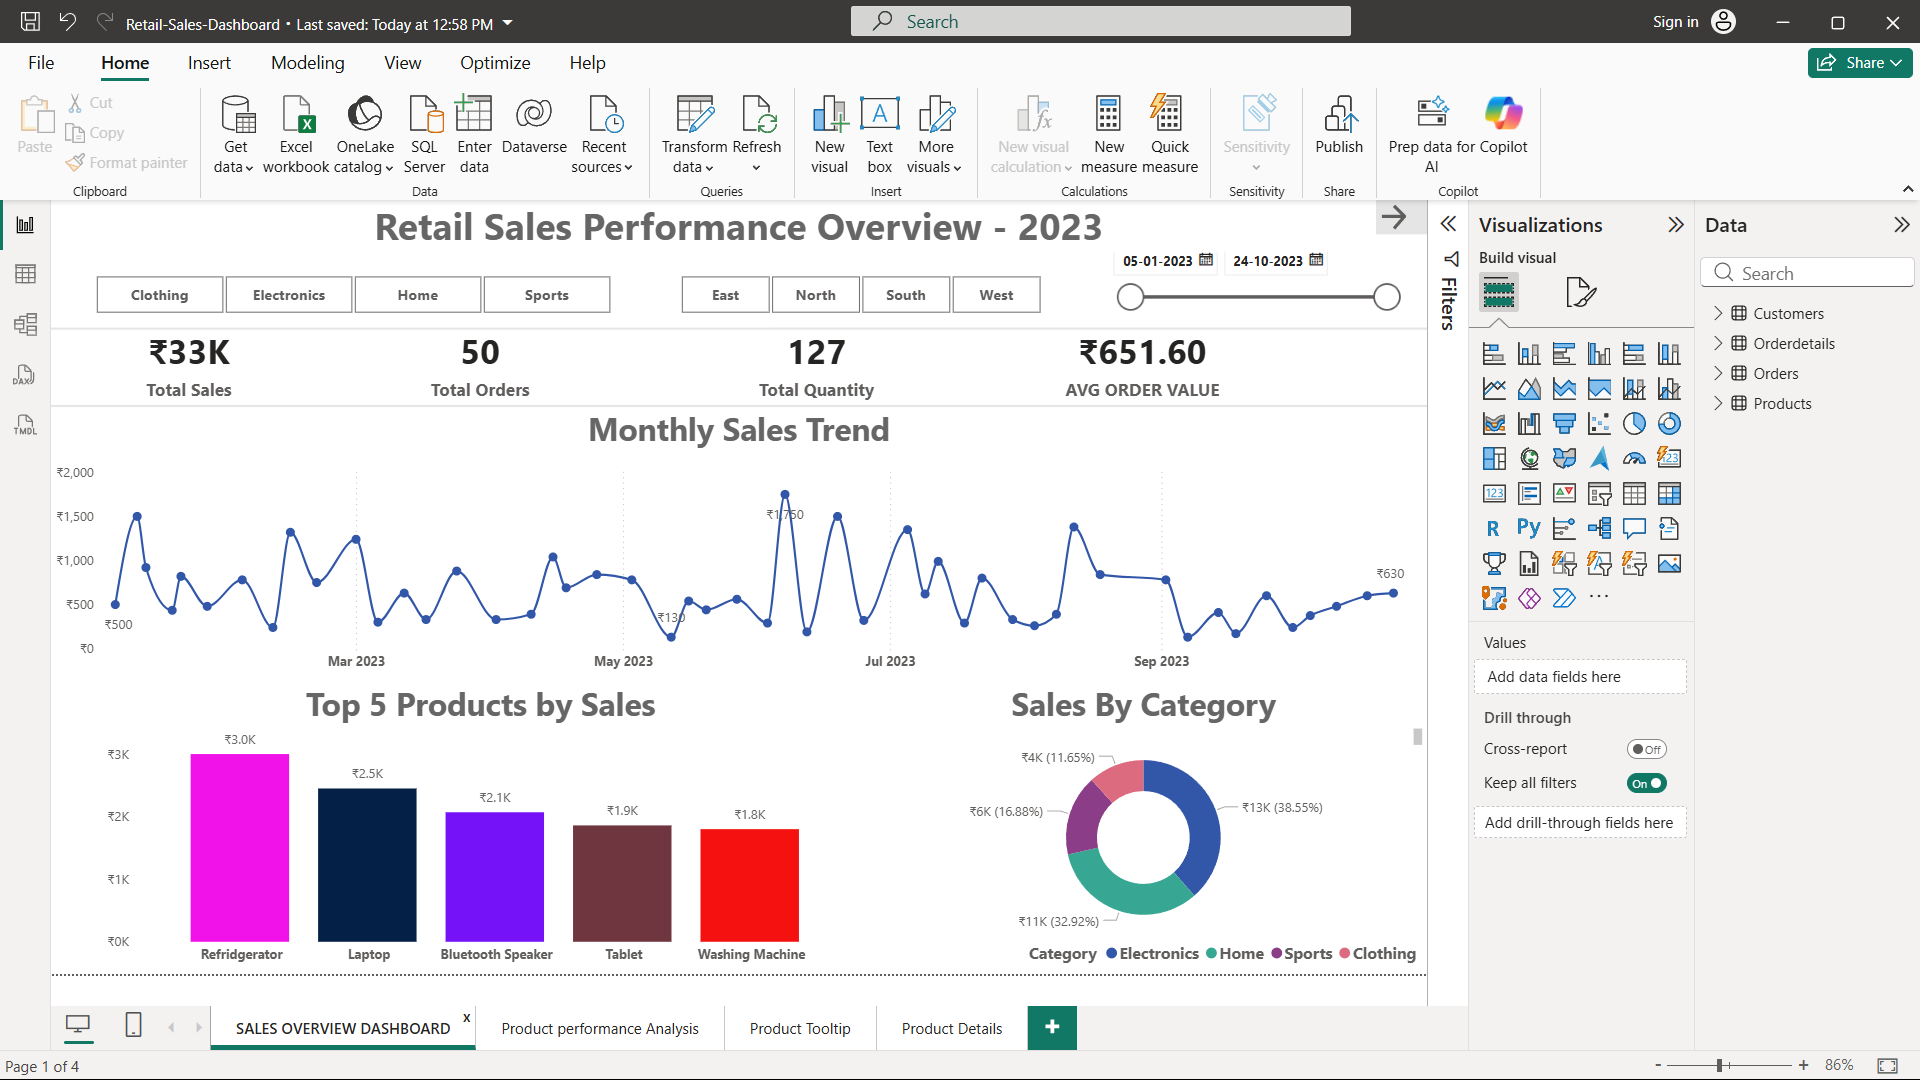

What the dashboard file says about the page in this screenshot:
{"tool":"powerbi","page":{"name":"SALES OVERVIEW DASHBOARD","canvas":[1280,720],"ordinal":0},"visuals":[{"type":"card","fields":{"Values":["Customers.Total Sales"]},"box":[32,112,192,80],"z":0},{"type":"card","fields":{"Values":["Customers.Total Orders"]},"box":[304,112,192,80],"z":1000},{"type":"card","fields":{"Values":["Customers.Total Quantity"]},"box":[624,112,176,80],"z":2000},{"type":"card","fields":{"Values":["Customers.AVG ORDER VALUE"]},"box":[912,112,208,80],"z":3000},{"type":"lineChart","title":"Monthly Sales Trend","fields":{"Y":["Customers.Total Sales"],"Category":["Orders.OrderDate.Variation.Date Hierarchy.Year","Orders.OrderDate.Variation.Date Hierarchy.Quarter","Orders.OrderDate.Variation.Date Hierarchy.Month","Orders.OrderDate.Variation.Date Hierarchy.Day"]},"box":[0,240,1280,208],"z":4000},{"type":"textbox","title":"Monthly Sales Trend","box":[0,192,1280,48],"z":5000},{"type":"shape","box":[0,176,1280,32],"z":6000},{"type":"clusteredColumnChart","fields":{"Category":["Products.ProductName"],"Y":["Customers.Total Sales"]},"box":[48,480,704,240],"z":7000},{"type":"textbox","title":"Top 5 Products by Sales","box":[48,448,704,48],"z":8000},{"type":"donutChart","fields":{"Category":["Products.Category"],"Y":["Customers.Total Sales"]},"box":[752,496,528,224],"z":9000},{"type":"textbox","title":"Sales By Category","box":[752,448,528,64],"z":10000},{"type":"slicer","fields":{"Values":["Products.Category"]},"box":[16,64,528,48],"z":11000},{"type":"slicer","fields":{"Values":["Customers.Region"]},"box":[560,64,384,48],"z":12000},{"type":"slicer","fields":{"Values":["Orders.OrderDate"]},"box":[976,32,288,80],"z":13000},{"type":"shape","box":[0,112,1280,16],"z":14000},{"type":"textbox","title":"Retail Sales Performance Overview - 2023","box":[0,0,1280,48],"z":15000},{"type":"actionButton","box":[1232,0,48,32],"z":16000}]}

Visuals, with their boxes on the page's 1280x720 design canvas (x1, y1, x2, y2). These are canvas units, not pixel positions in the 1920x1080 screenshot, which may show the page scaled, cropped or inside an application window:
card - Customers.Total Sales: x1=32, y1=112, x2=224, y2=192
card - Customers.Total Orders: x1=304, y1=112, x2=496, y2=192
card - Customers.Total Quantity: x1=624, y1=112, x2=800, y2=192
card - Customers.AVG ORDER VALUE: x1=912, y1=112, x2=1120, y2=192
"Monthly Sales Trend" lineChart: x1=0, y1=240, x2=1280, y2=448
"Monthly Sales Trend" textbox: x1=0, y1=192, x2=1280, y2=240
shape: x1=0, y1=176, x2=1280, y2=208
clusteredColumnChart - Products.ProductName x Customers.Total Sales: x1=48, y1=480, x2=752, y2=720
"Top 5 Products by Sales" textbox: x1=48, y1=448, x2=752, y2=496
donutChart - Products.Category x Customers.Total Sales: x1=752, y1=496, x2=1280, y2=720
"Sales By Category" textbox: x1=752, y1=448, x2=1280, y2=512
slicer - Products.Category: x1=16, y1=64, x2=544, y2=112
slicer - Customers.Region: x1=560, y1=64, x2=944, y2=112
slicer - Orders.OrderDate: x1=976, y1=32, x2=1264, y2=112
shape: x1=0, y1=112, x2=1280, y2=128
"Retail Sales Performance Overview - 2023" textbox: x1=0, y1=0, x2=1280, y2=48
actionButton: x1=1232, y1=0, x2=1280, y2=32
